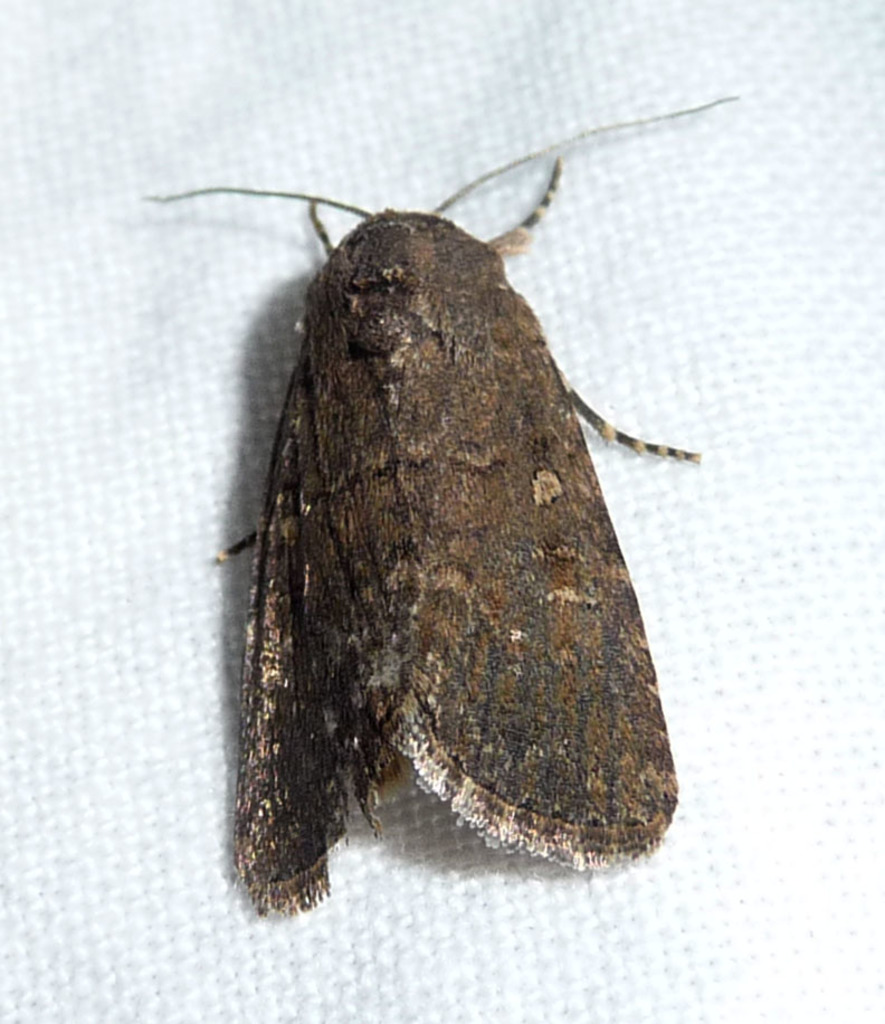Butterfly: (144, 133, 702, 924)
